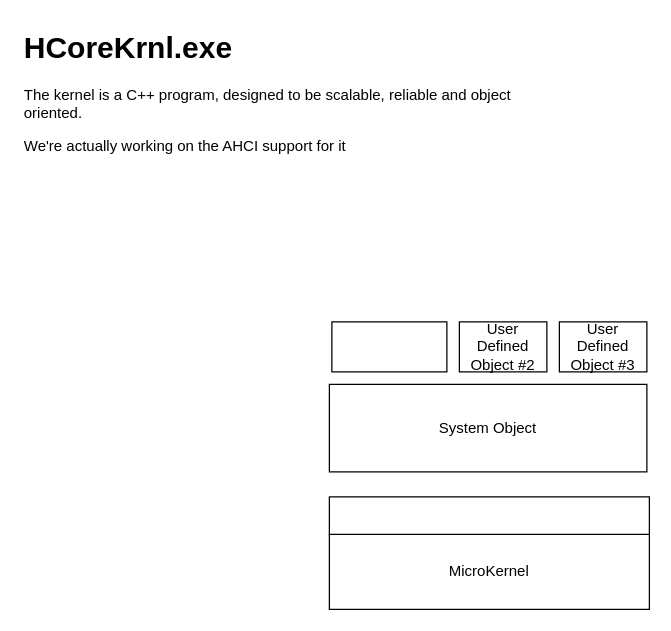
The diagram is 671 pixels wide and 631 high, and some of its shapes have lost their labels. The centre of each missing label's shape, as x and y in pixels:
System Call Interface: the point at 488,515
User Defined Object #1: the point at 389,346
